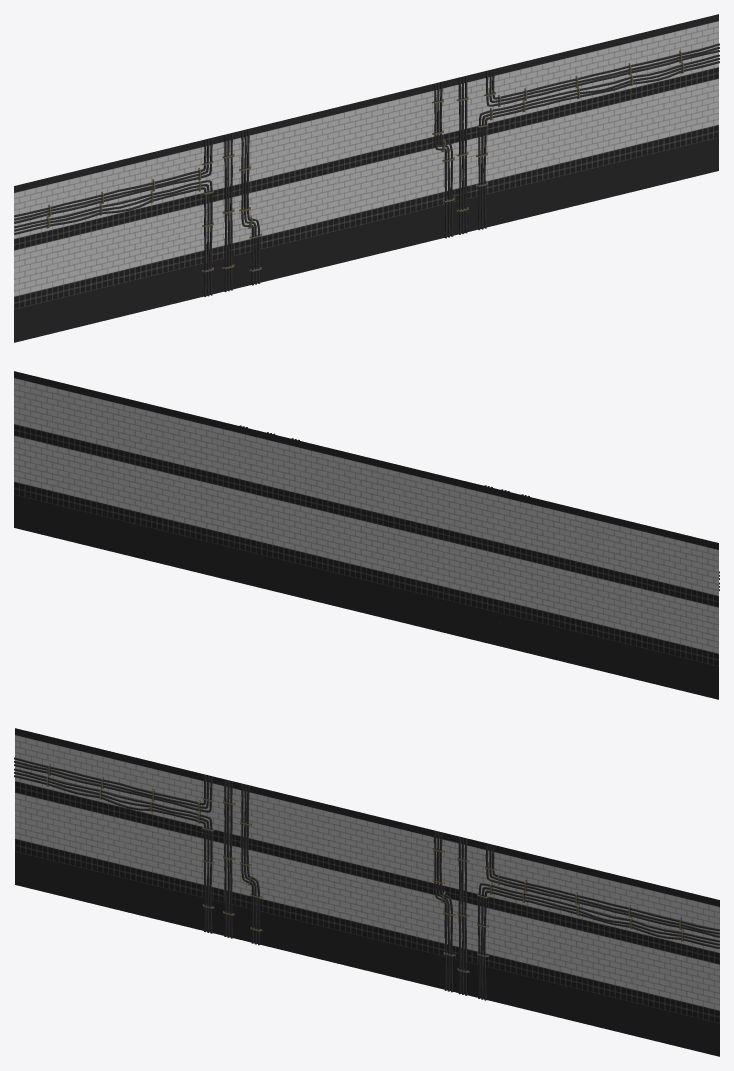
The model's file is SW_ENV_StationTunnel_Wall_A_01b_20m_FF.fbx.
3 views of the same model, one above another, from view 1: azimuth 30°, elevation 25°; view 2: azimuth 150°, elevation 25°; view 3: azimuth 330°, elevation 25° (orthographic).
Visible parts, largest first — view 1: SW_ENV_StationTunnel_Wall_A_01b_20m_FF; view 2: SW_ENV_StationTunnel_Wall_A_01b_20m_FF; view 3: SW_ENV_StationTunnel_Wall_A_01b_20m_FF.
Boxes of the visible parts, x1,y1,x2,y2 form: SW_ENV_StationTunnel_Wall_A_01b_20m_FF: (14,14,719,342); SW_ENV_StationTunnel_Wall_A_01b_20m_FF: (14,371,719,699); SW_ENV_StationTunnel_Wall_A_01b_20m_FF: (14,728,719,1056).
Size of the model in its own units: 2000 by 425 by 8.4.
